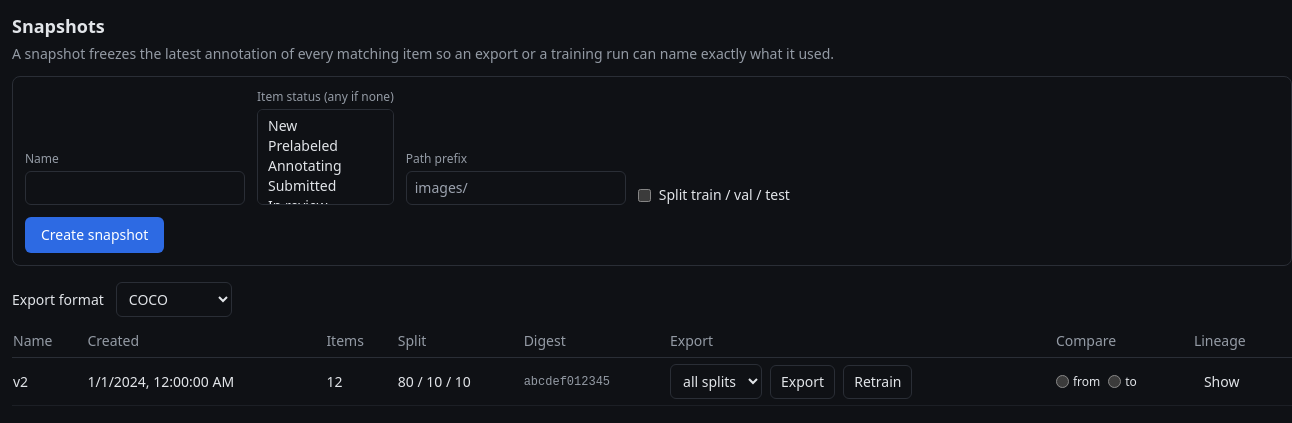
Test case: SnapshotsPanel › exports one split of a split snapshot
Select "YOLO" in the dropdown labelled "Export format" at [174, 300], box [116,282,232,317]
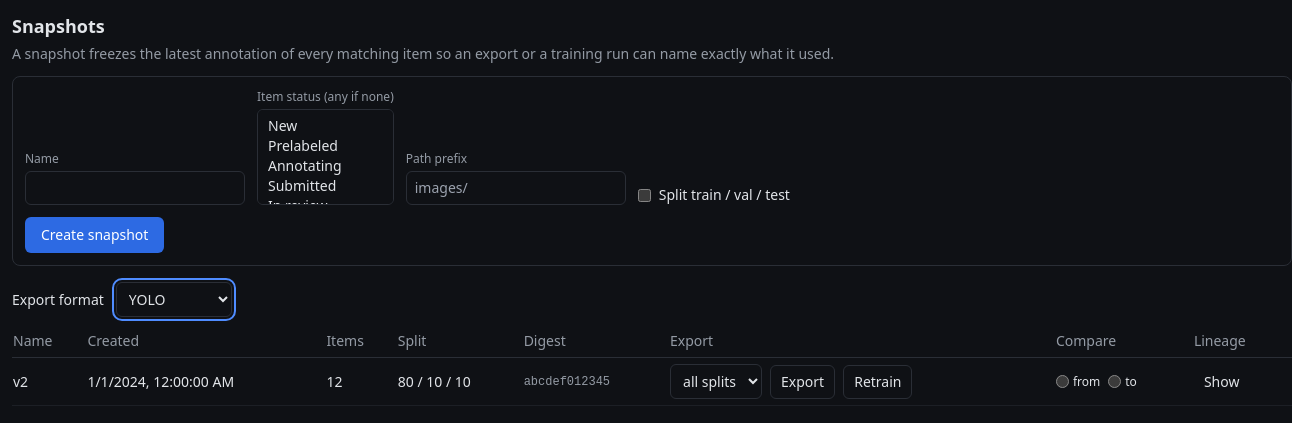
Select "val" in the dropdown named "Split to export for v2" at [716, 382], box [670,364,762,399]
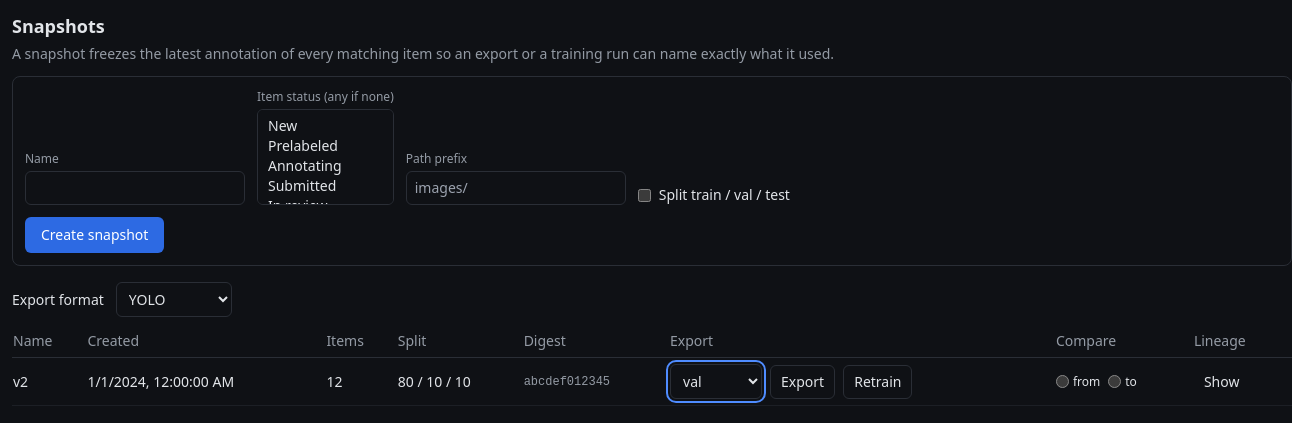
Click the button "Export" at [803, 382], box [770,364,835,398]
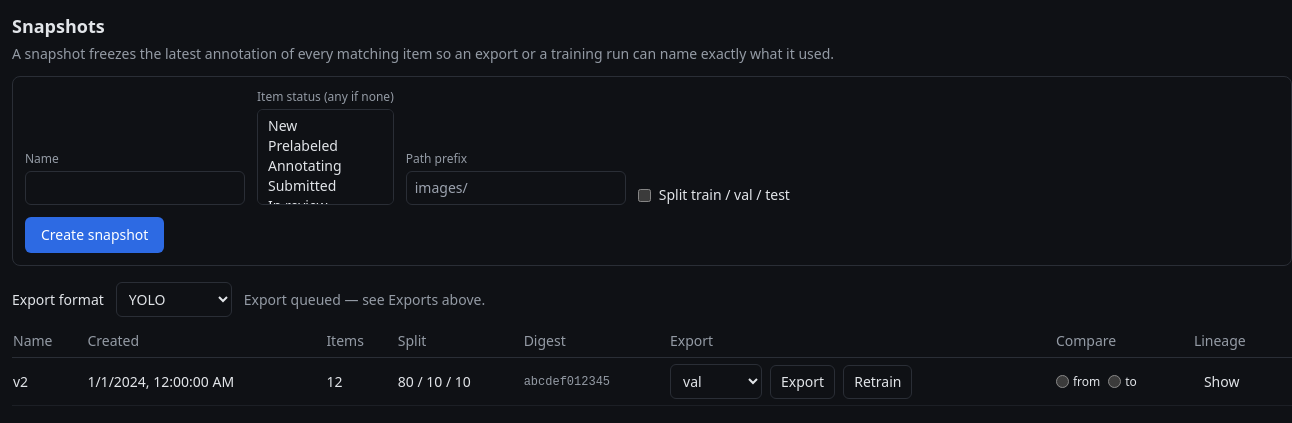
Check: the message shows "Export queued", box [244,290,485,308]
